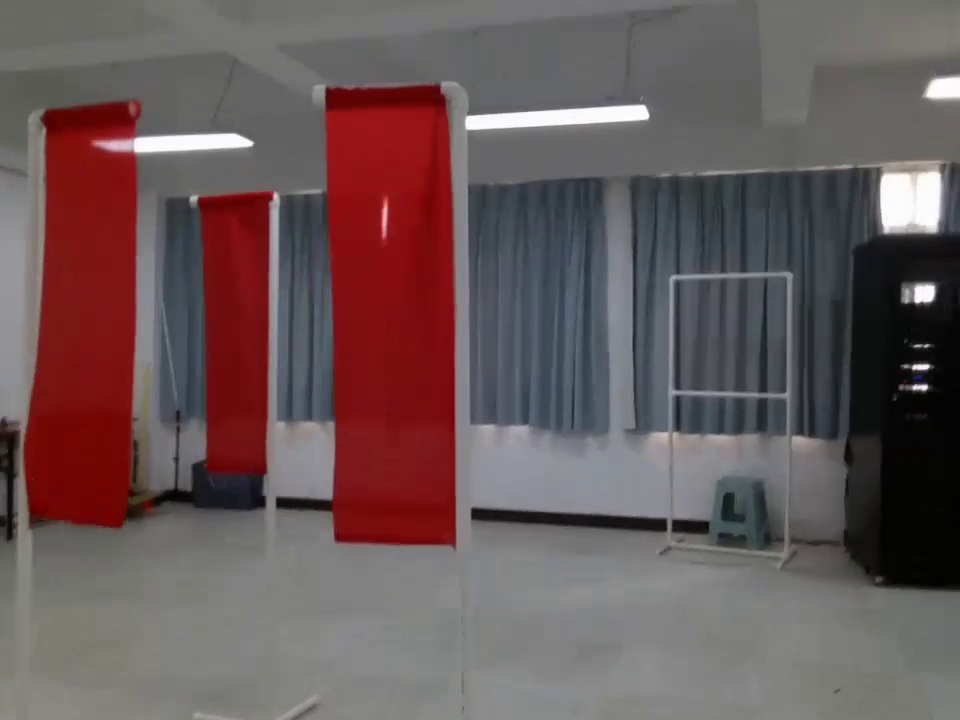qi: (304, 76, 483, 566), (13, 91, 142, 539), (193, 181, 282, 501)
